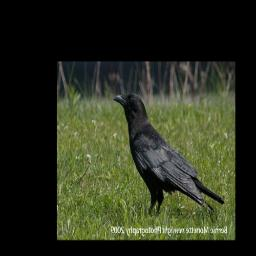Crow: (112, 92, 225, 220)
